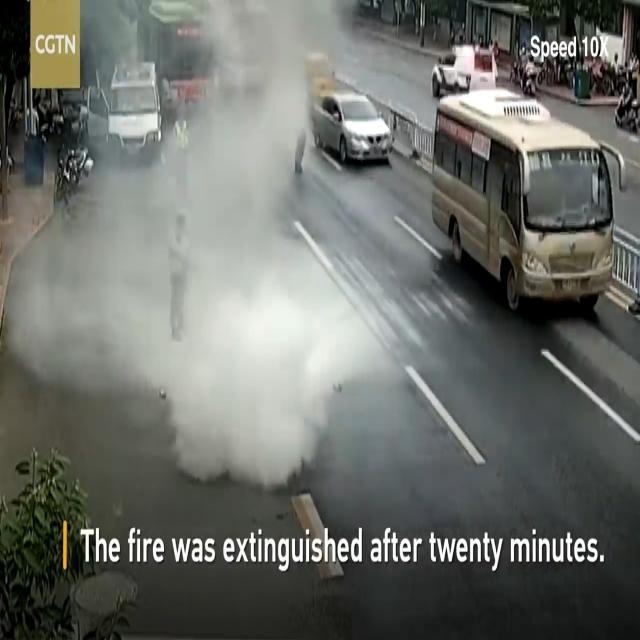Smoke: (8, 0, 390, 484)
